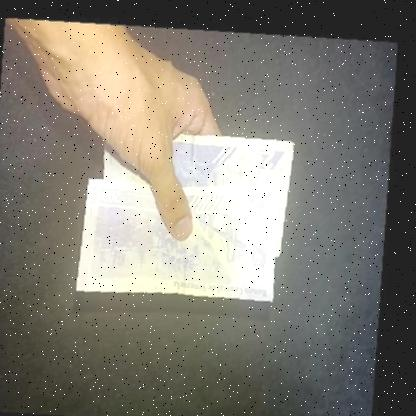two_hundred-back-vef: (70, 158, 291, 313)
